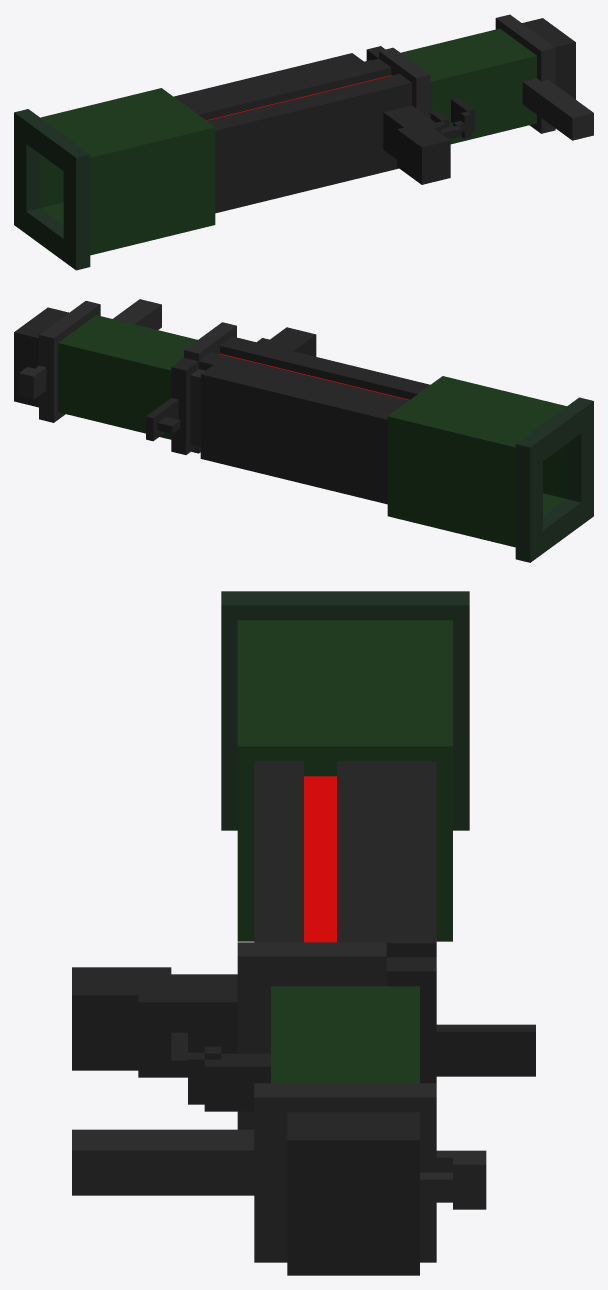
The model's file is gun10.obj.
3 views of the same model, one above another, from view 1: azimuth 30°, elevation 25°; view 2: azimuth 150°, elevation 25°; view 3: azimuth 270°, elevation 25° (orthographic). The views are drawn at different scales.
Size of the model in its own units: 7.2 by 1.5 by 2.8.
1 material, 1 textured.
